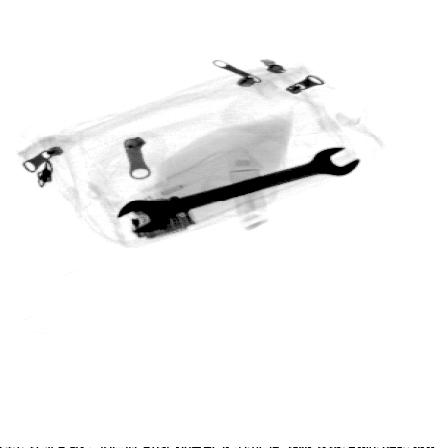Wrench: (114, 144, 364, 235)
